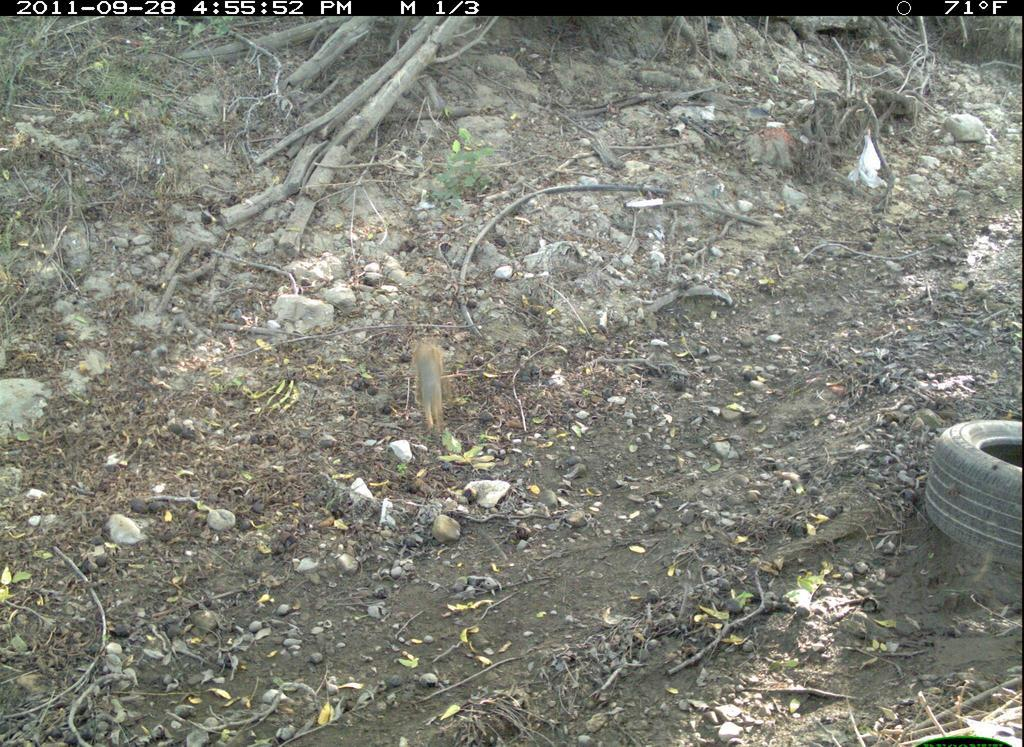squirrel: (402, 324, 469, 437)
